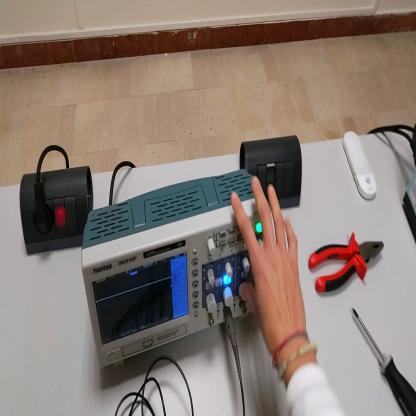hand: (231, 171, 309, 354)
oscilloscope: (82, 168, 265, 367)
pliers: (309, 237, 387, 296)
screwdriver-: (354, 310, 416, 414)
socket: (20, 162, 96, 259), (411, 124, 416, 166)
welder station: (403, 168, 416, 247)
